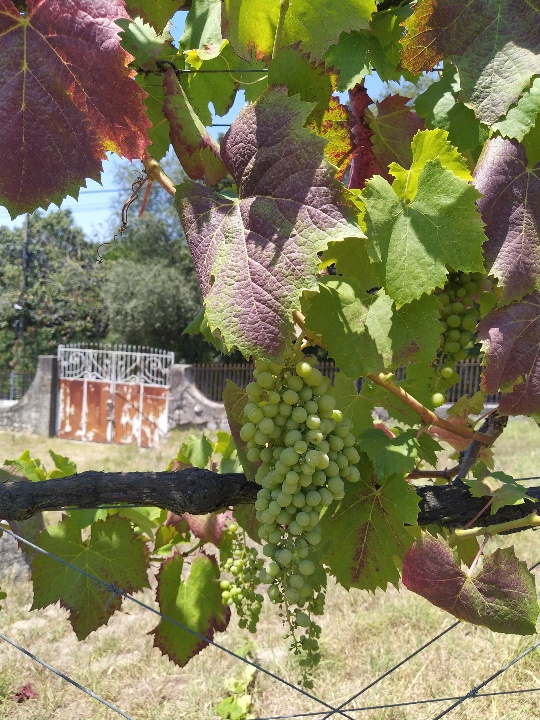grape: (241, 343, 364, 696), (212, 524, 274, 637)
